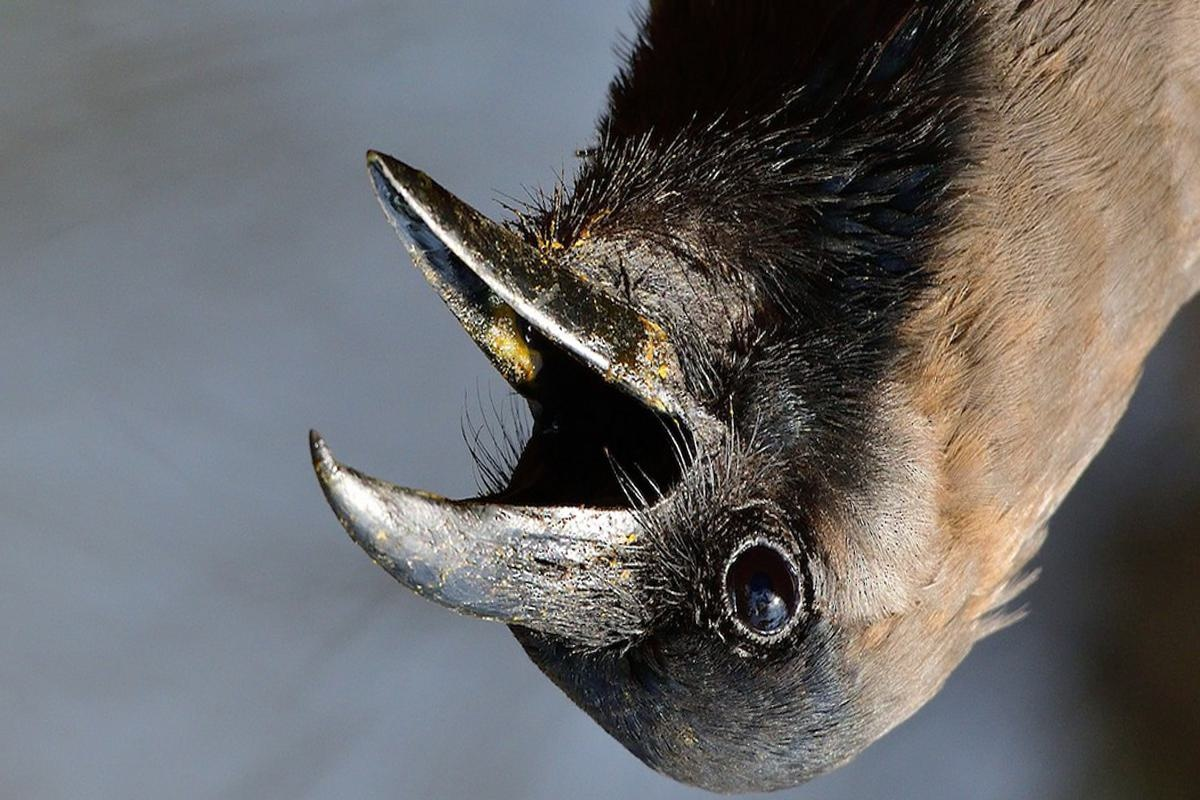crow: (318, 1, 1200, 797)
